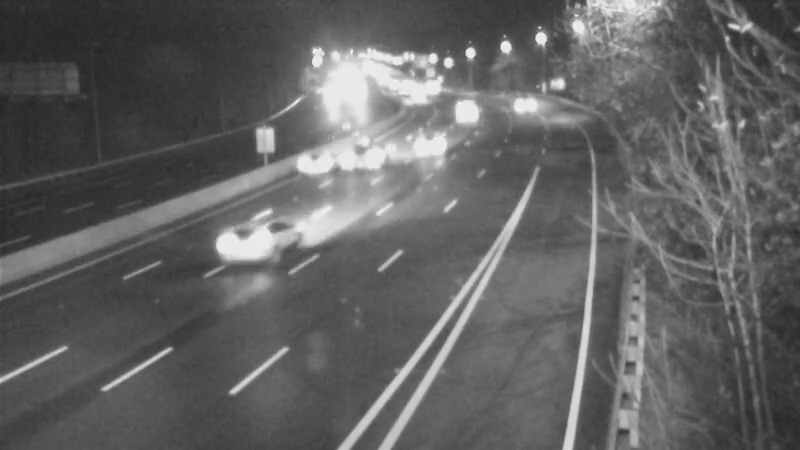vehicle: (331, 116, 411, 196), (273, 123, 353, 203), (206, 210, 286, 290), (395, 74, 445, 124), (438, 87, 488, 137), (497, 79, 547, 129), (408, 121, 458, 171)
